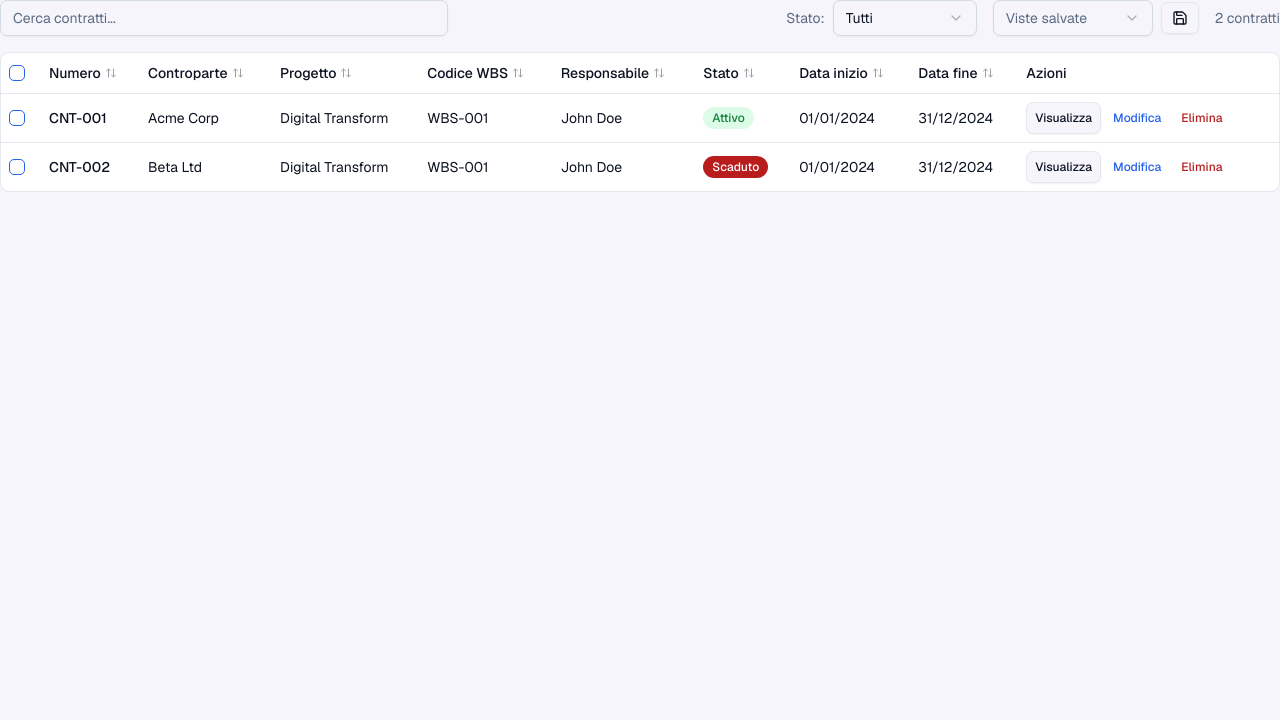
Test: ContractTable › opens the delete confirmation dialog when Delete is clicked
Click the button "Elimina" in the row of "CNT-001" at x=1202, y=118, box [1173,102,1230,134]
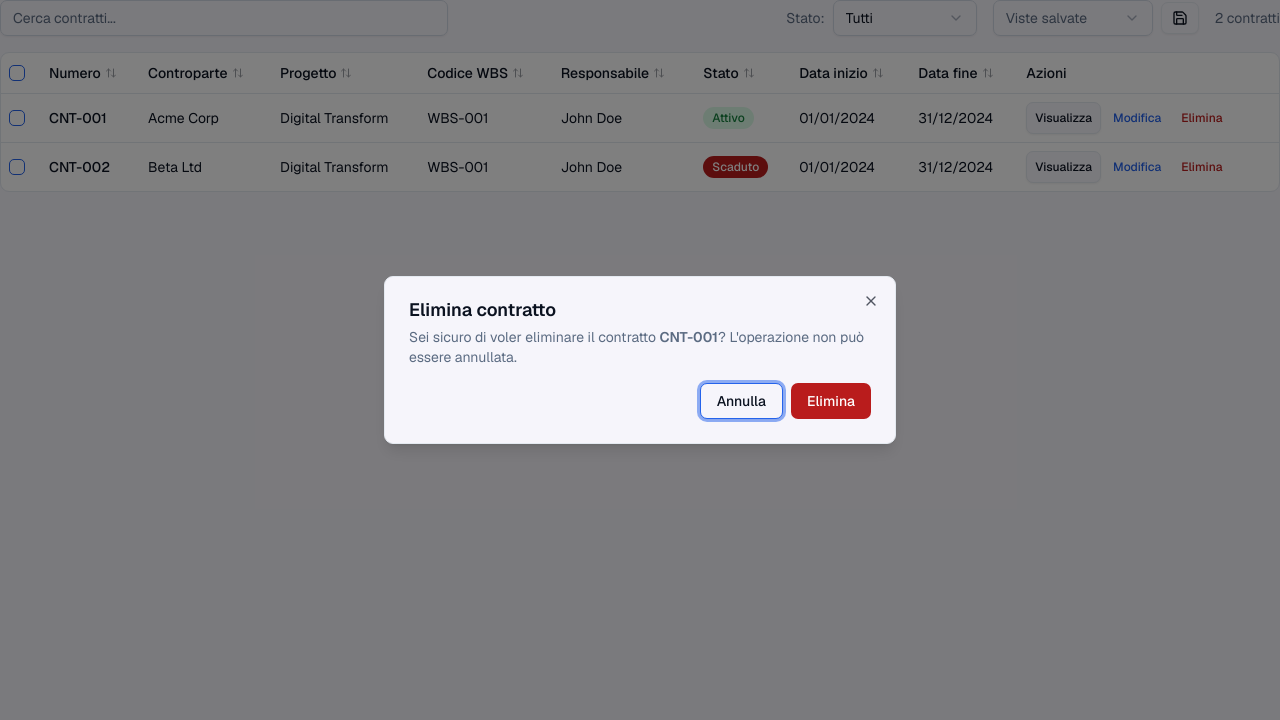
Check: the dialog is shown, box [384,276,896,444]
Check: the text "Sei sicuro" is shown, box [409,328,656,346]
Check: the text "CNT-001" is shown, box [659,328,718,346]
